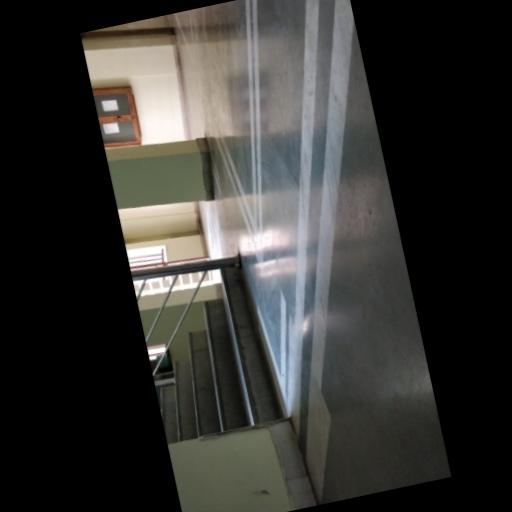stairs: (160, 267, 281, 442)
